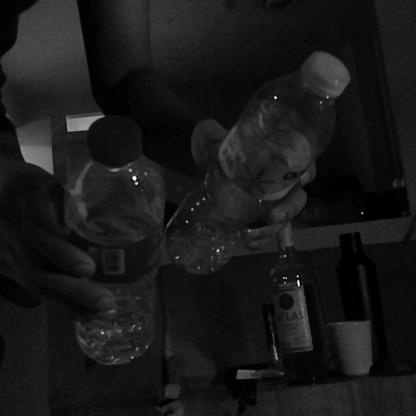plastic_bottles: (164, 48, 350, 276), (70, 113, 158, 367)
